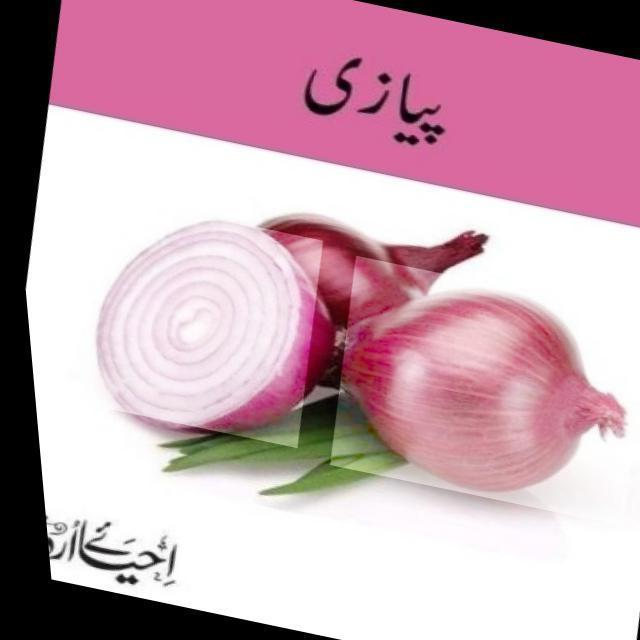Onion: (306, 255, 640, 526), (55, 195, 332, 448)
